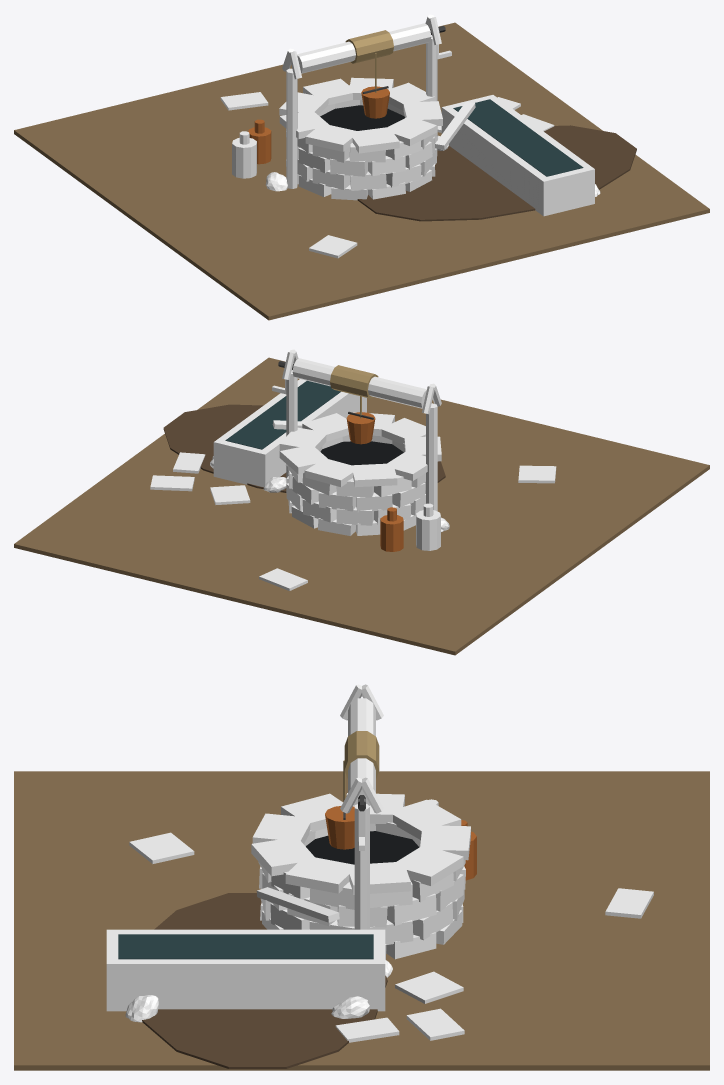
The model's file is kuyu.glb.
3 views of the same model, one above another, from view 1: azimuth 30°, elevation 25°; view 2: azimuth 150°, elevation 25°; view 3: azimuth 270°, elevation 25° (orthographic). The views are drawn at different scales.
Parts seen in each view (by area): view 1: AgizTas; view 2: AgizTas; view 3: AgizTas.
Boxes of the visible parts, <box> form: AgizTas: <box>14,14,709,320</box>; AgizTas: <box>14,349,709,655</box>; AgizTas: <box>14,684,709,1070</box>.
Bounding box in the file's own units: 1 × 0.3088 × 0.9878.
